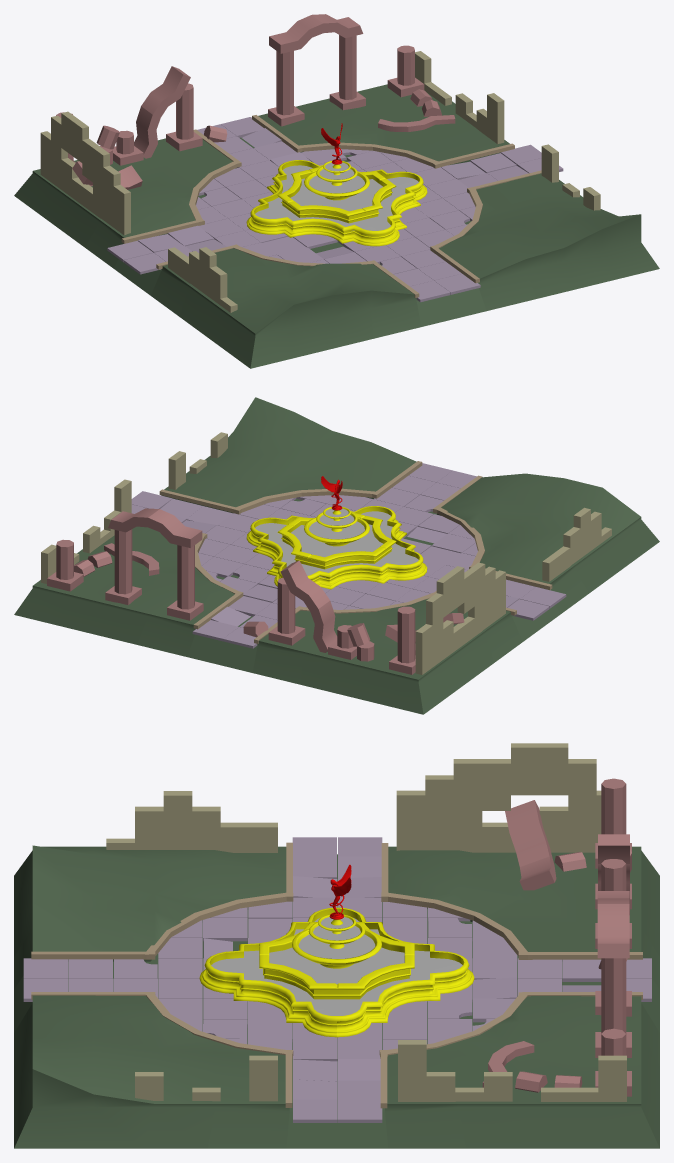
Rendered from Diorama with Water.fbx.
3 renders of one model, top to bottom at view 1: azimuth 30°, elevation 25°; view 2: azimuth 150°, elevation 25°; view 3: azimuth 270°, elevation 25°, orthographic. The views are drawn at different scales.
Visible parts, largest first — view 1: pPlane1, Mainbody_low, polySurface88, pCube9, polySurface90, polySurface89, pCube154, Fountain5_pasted__group1_pasted__pasted__pCylinder5, pCube19, polySurface2, pCylinder33, pCylinder13 (+14 smaller); view 2: pPlane1, polySurface88, Mainbody_low, pCube9, polySurface90, polySurface89, pCube154, pCube19, Fountain5_pasted__group1_pasted__pasted__pCylinder5, polySurface2, pCylinder33, pCylinder13 (+26 smaller); view 3: pPlane1, polySurface88, Mainbody_low, pCube9, polySurface90, polySurface89, Fountain5_pasted__group1_pasted__pasted__pCylinder5, pCube155, polySurface2, pCube19, pCylinder33, pCylinder36 (+53 smaller).
Boxes of the visible parts, x1,y1,x2,y2 form: pPlane1: [14, 84, 659, 368]; Mainbody_low: [246, 160, 427, 246]; polySurface88: [40, 111, 130, 235]; pCube9: [121, 115, 541, 297]; polySurface90: [415, 51, 600, 210]; polySurface89: [168, 247, 237, 312]; pCube154: [134, 66, 190, 158]; Fountain5_pasted__group1_pasted__pasted__pCylinder5: [255, 165, 418, 231]; pCube19: [269, 14, 363, 53]; polySurface2: [290, 178, 382, 211]; pCylinder33: [339, 35, 356, 99]; pCylinder13: [276, 51, 293, 115]; pPlane1: [14, 397, 659, 714]; polySurface88: [415, 562, 505, 674]; Mainbody_low: [246, 506, 427, 589]; pCube9: [159, 461, 552, 643]; polySurface90: [41, 432, 227, 583]; polySurface89: [542, 507, 611, 581]; pCube154: [280, 560, 337, 652]; pCube19: [108, 508, 202, 547]; Fountain5_pasted__group1_pasted__pasted__pCylinder5: [255, 511, 418, 577]; polySurface2: [291, 524, 383, 557]; pCylinder33: [114, 529, 132, 594]; pCylinder13: [177, 545, 194, 609]; pPlane1: [14, 845, 659, 1148]; polySurface88: [396, 743, 601, 852]; Mainbody_low: [199, 907, 474, 1037]; pCube9: [31, 842, 642, 1108]; polySurface90: [135, 1040, 626, 1101]; polySurface89: [106, 791, 277, 852]; Fountain5_pasted__group1_pasted__pasted__pCylinder5: [211, 918, 465, 1015]; pCube155: [505, 800, 556, 890]; polySurface2: [269, 947, 404, 984]; pCube19: [597, 891, 629, 958]; pCylinder33: [601, 958, 626, 1033]; pCylinder36: [601, 778, 626, 834].
Bounding box in the file's own units: 26.3 × 7.07 × 25.44.
